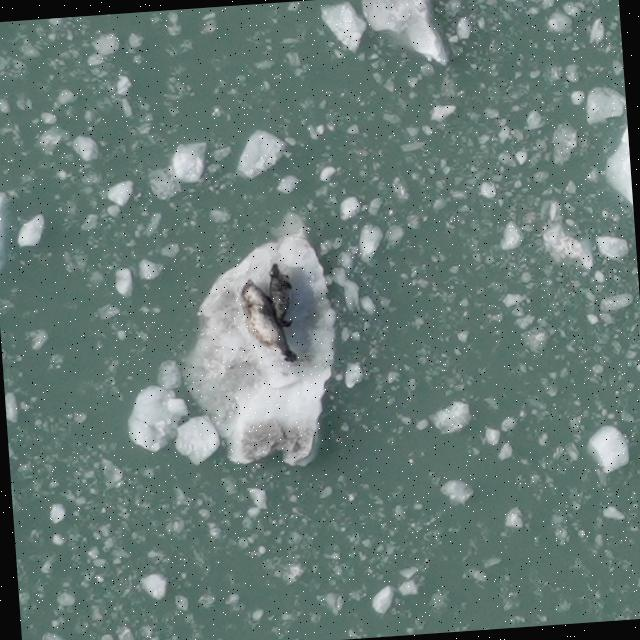seal: (238, 273, 300, 369), (263, 257, 301, 334)
